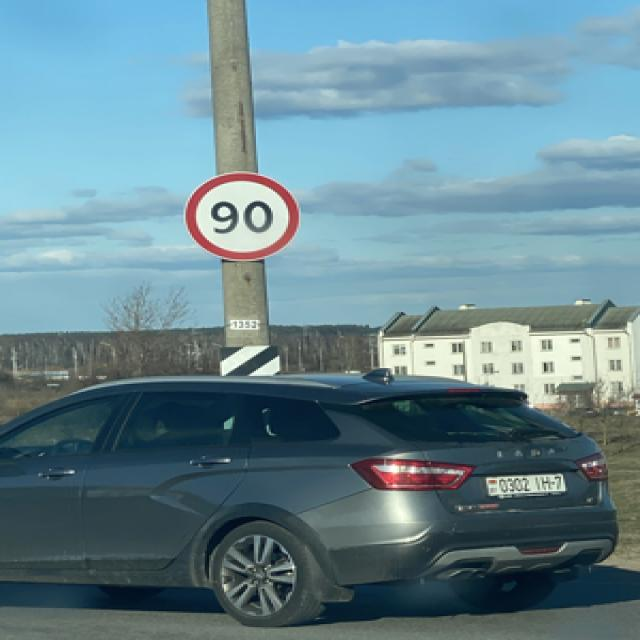speedlimit: (182, 170, 296, 259)
